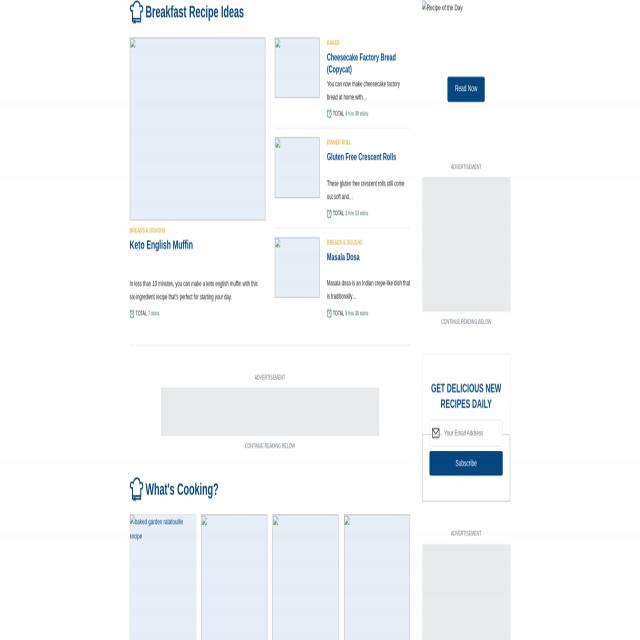button: (130, 38, 265, 220), (130, 514, 196, 640), (201, 514, 267, 640), (272, 514, 338, 640), (344, 515, 410, 640), (275, 137, 319, 198), (275, 237, 319, 298), (275, 38, 319, 98), (430, 450, 502, 476), (448, 76, 484, 102), (430, 420, 442, 446), (326, 309, 332, 318), (326, 110, 332, 118), (326, 210, 332, 218), (130, 310, 134, 318)
field: (442, 420, 502, 446)
